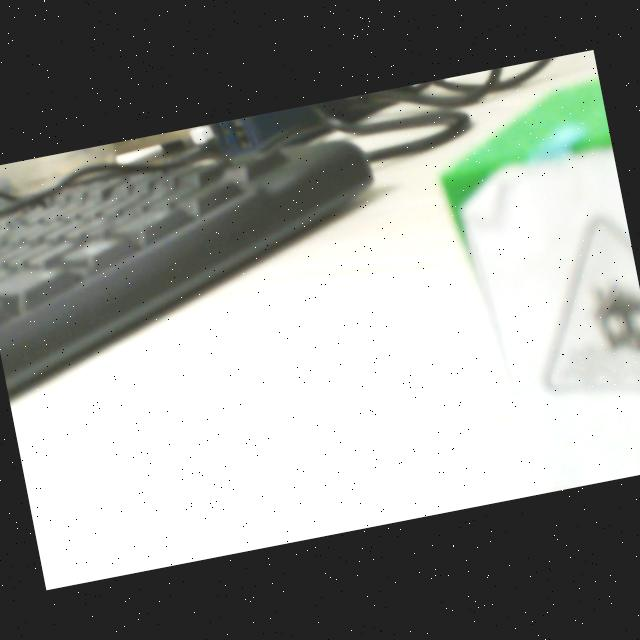Tsunami: (546, 216, 640, 391)
